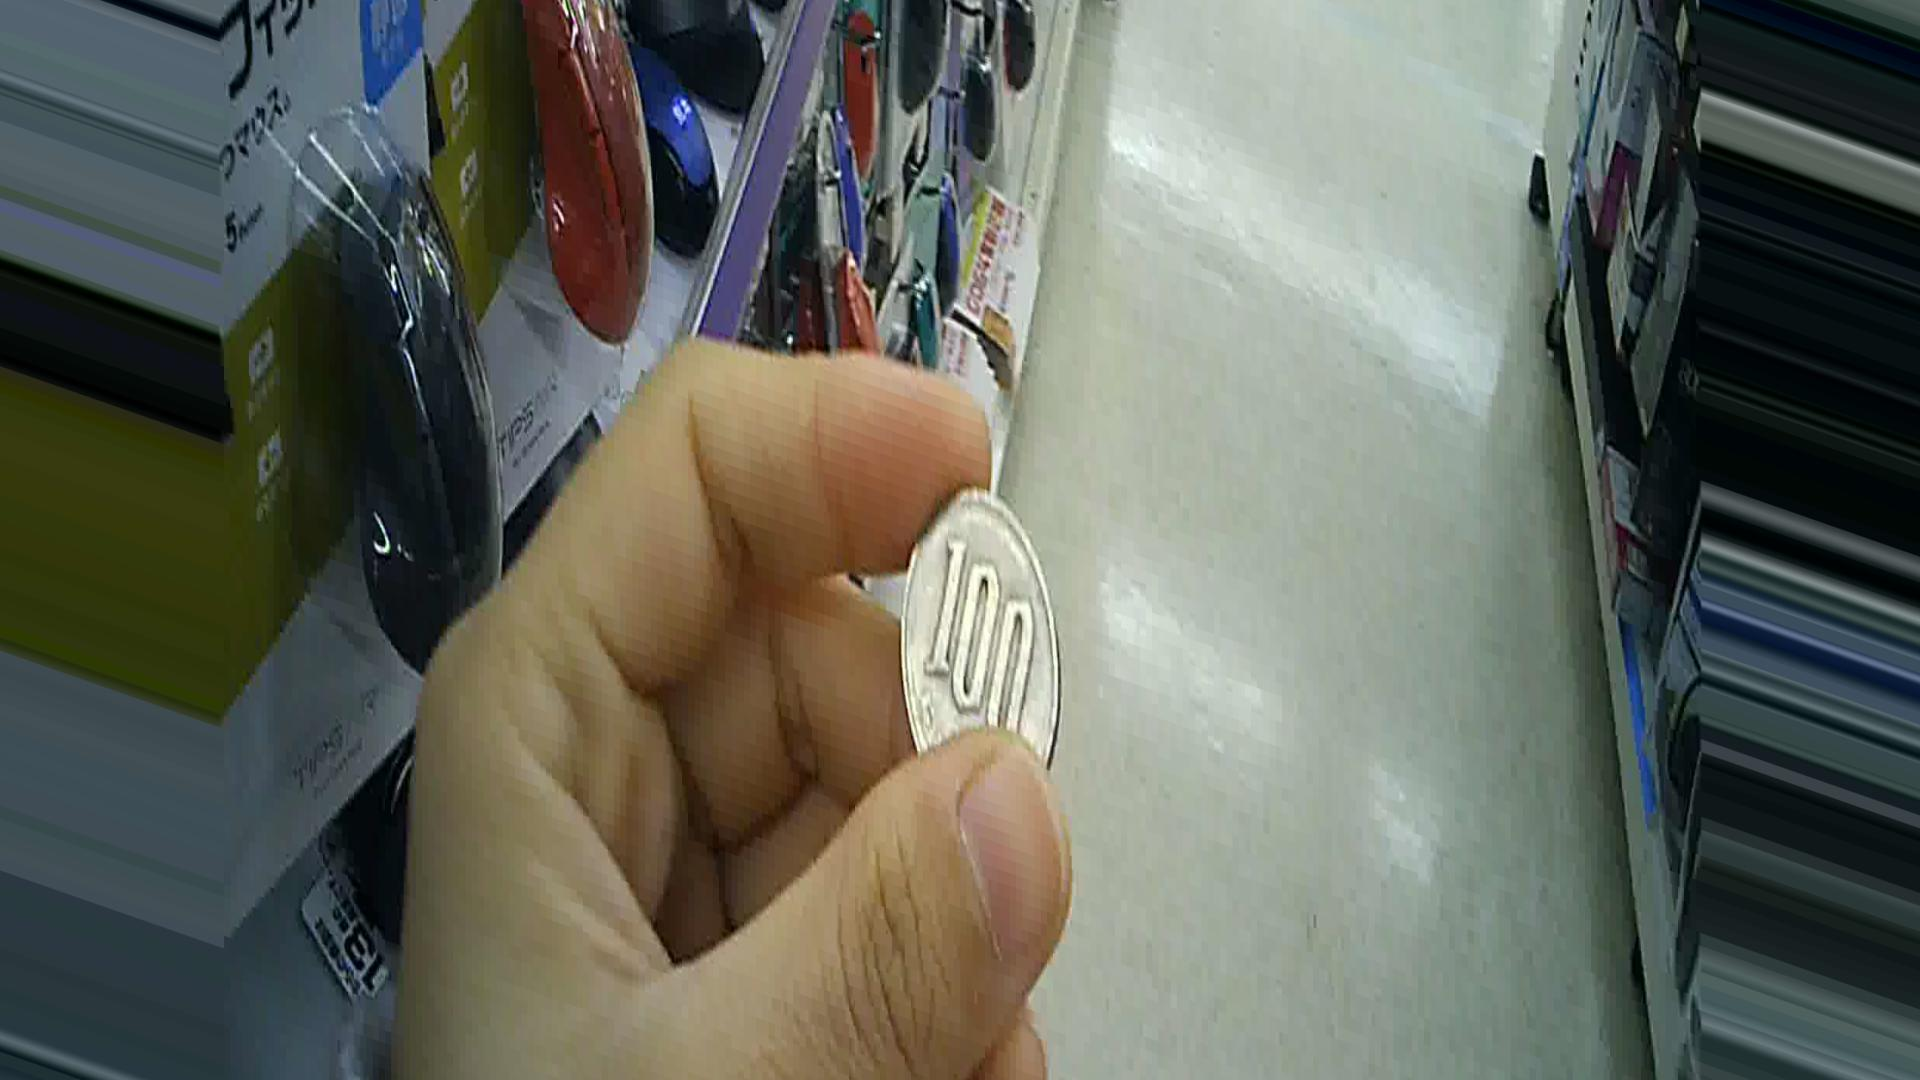100 Yen: (890, 483, 1072, 769)
